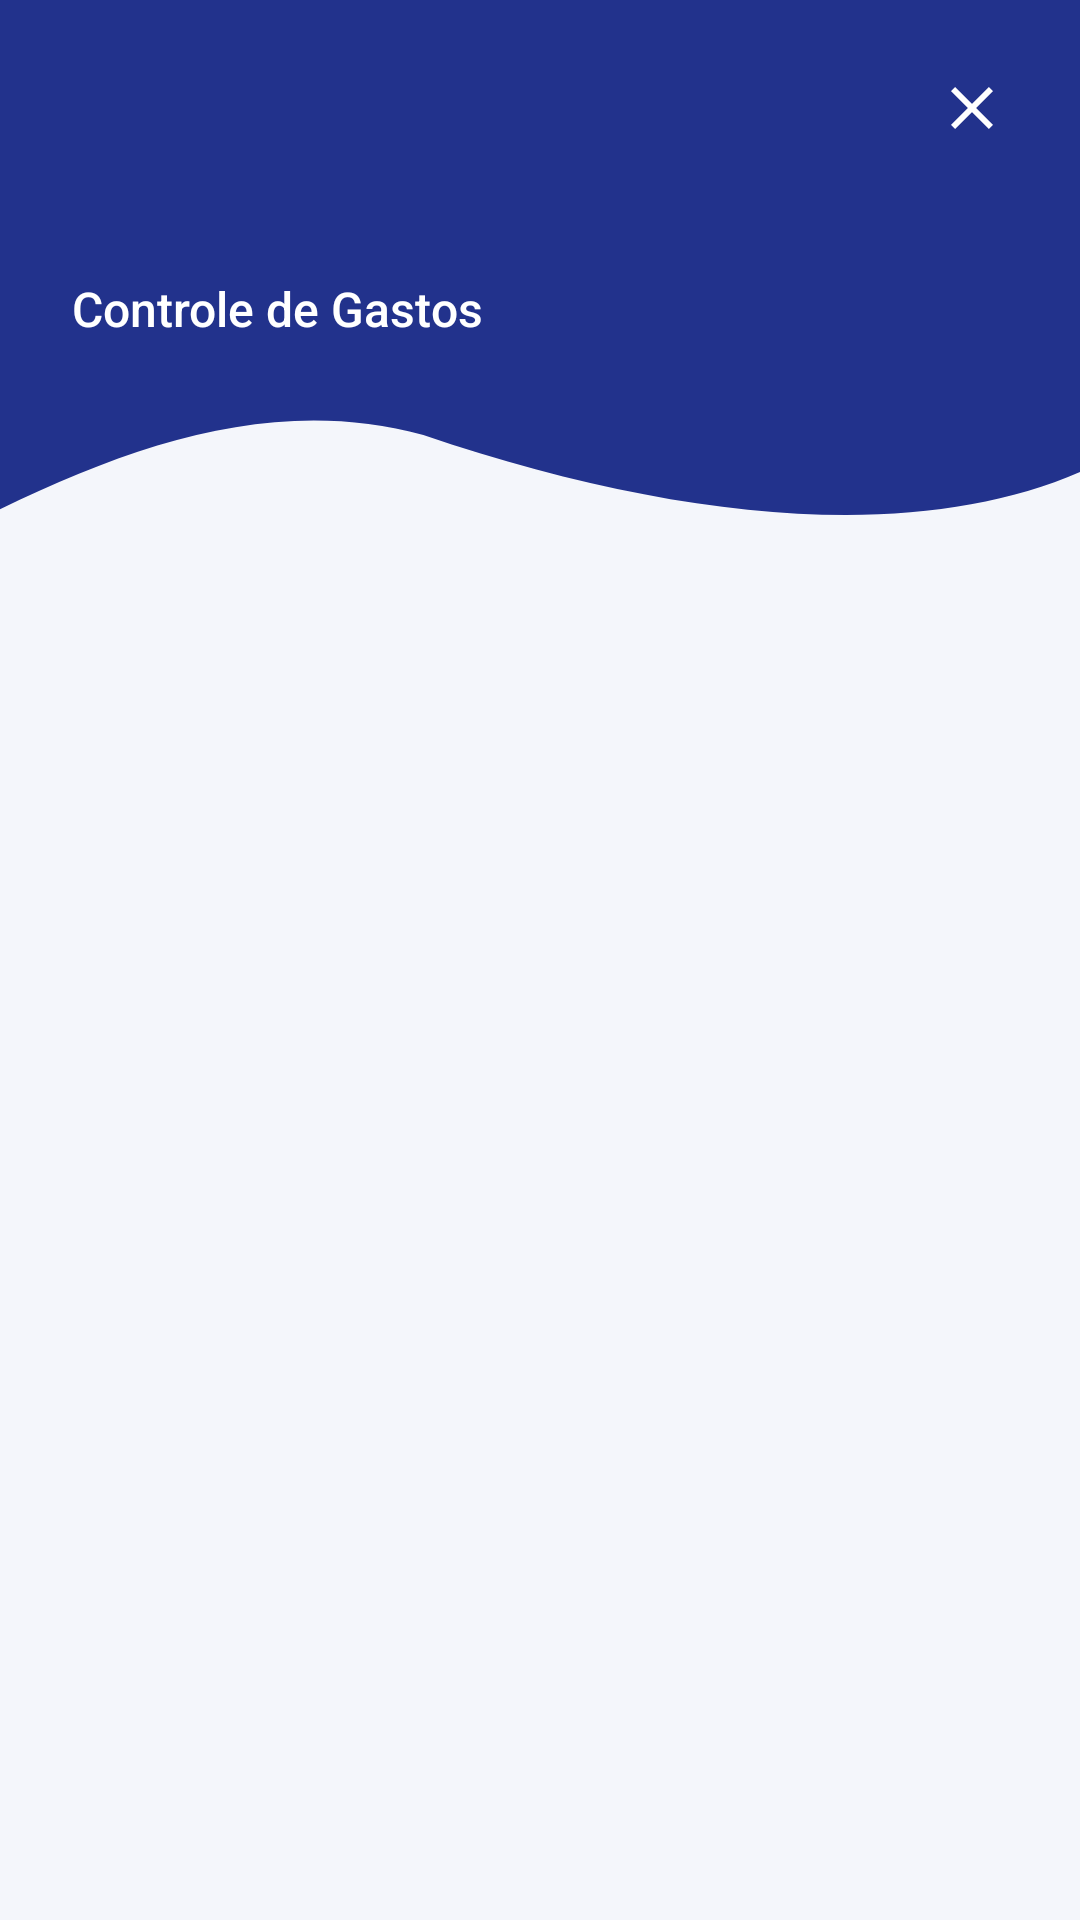

Named icons in this screenshot (1080px x 1920px) and their bounding boxes, {"left": x1, "top": y1, "right": x2, "bottom": y2}:
Fechar menu de navegação: {"left": 951, "top": 87, "right": 993, "bottom": 129}
